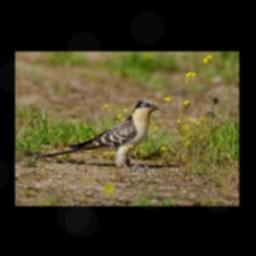Cuckoo: (37, 99, 161, 168)
